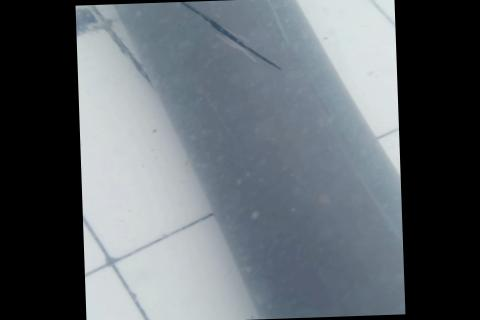keretakan: (143, 0, 282, 76)
